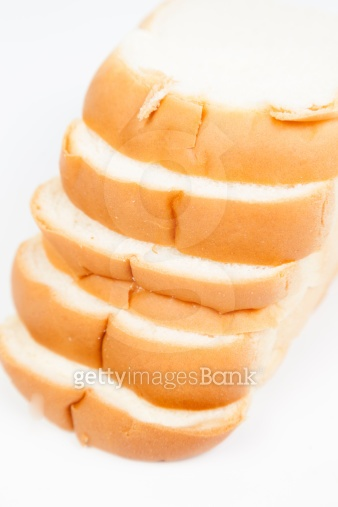slice of bread: (24, 4, 333, 476)
